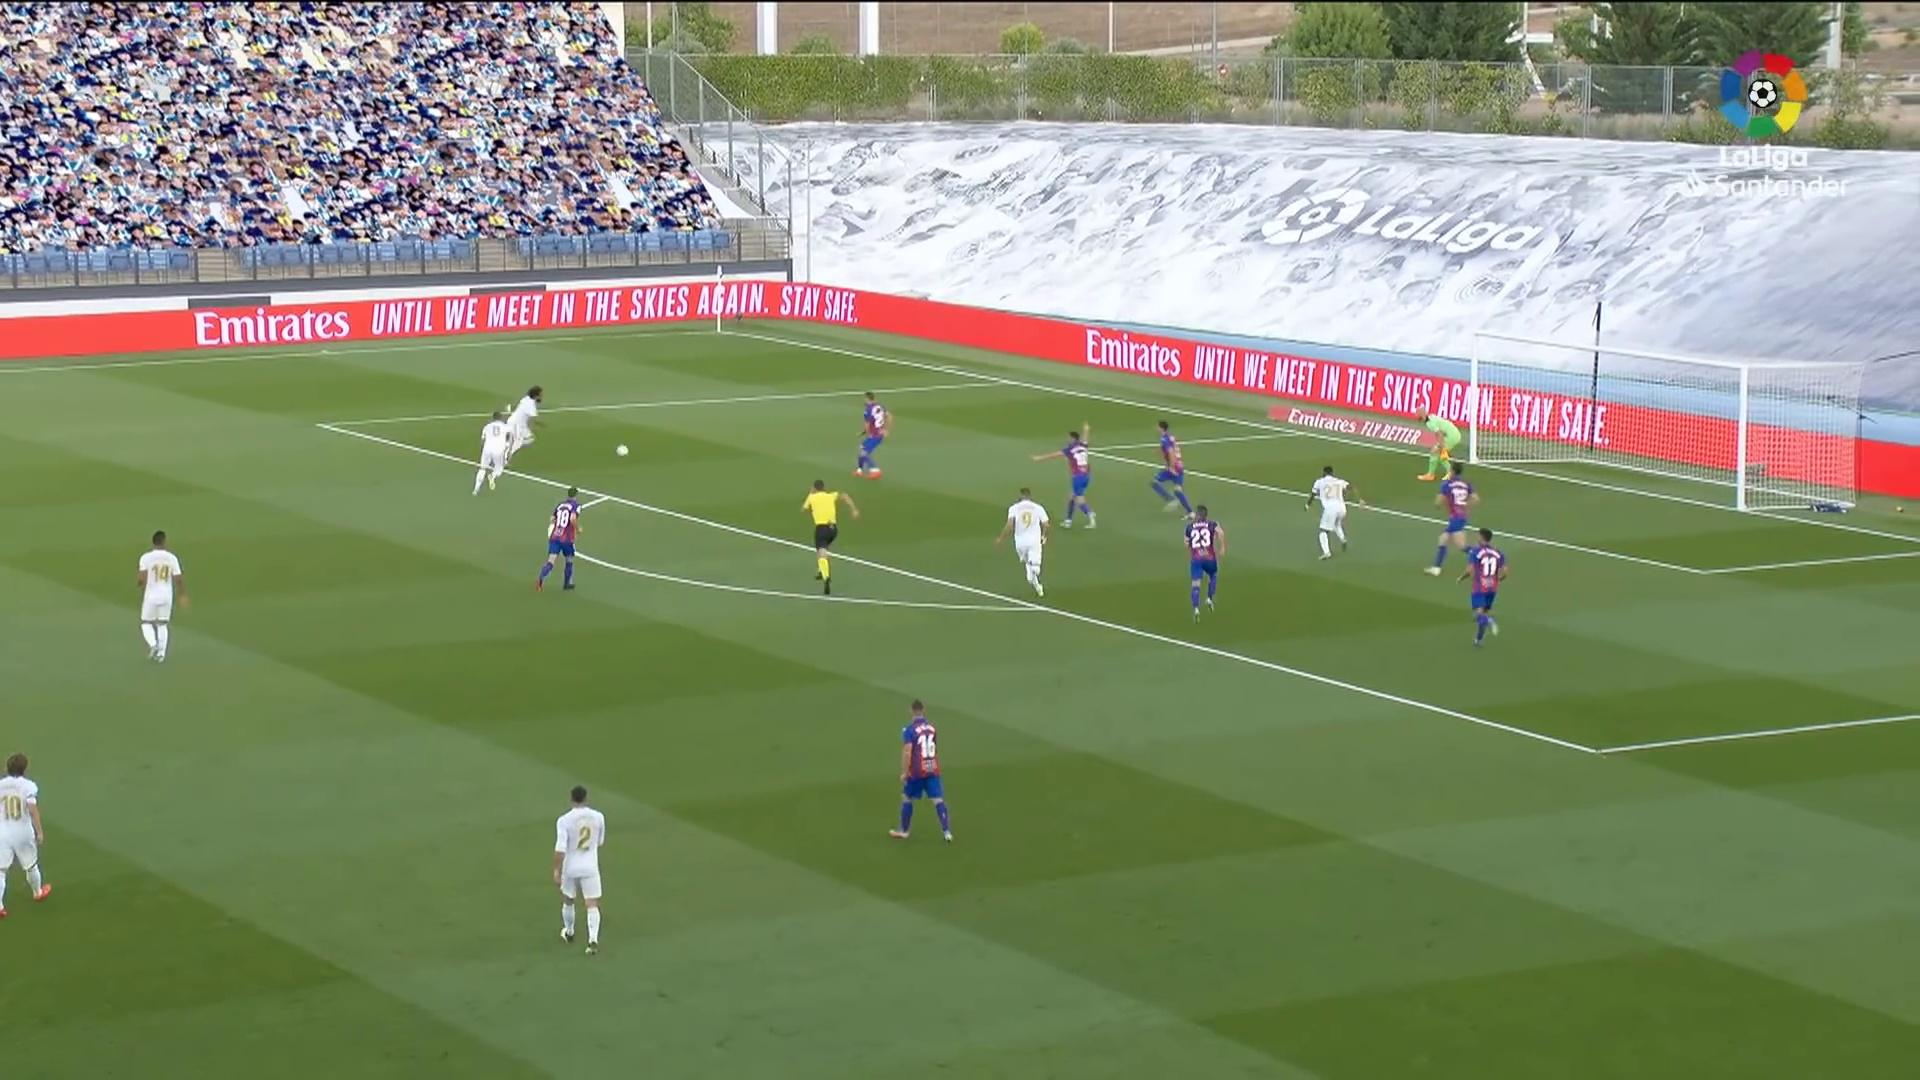ball: (615, 443, 630, 459)
